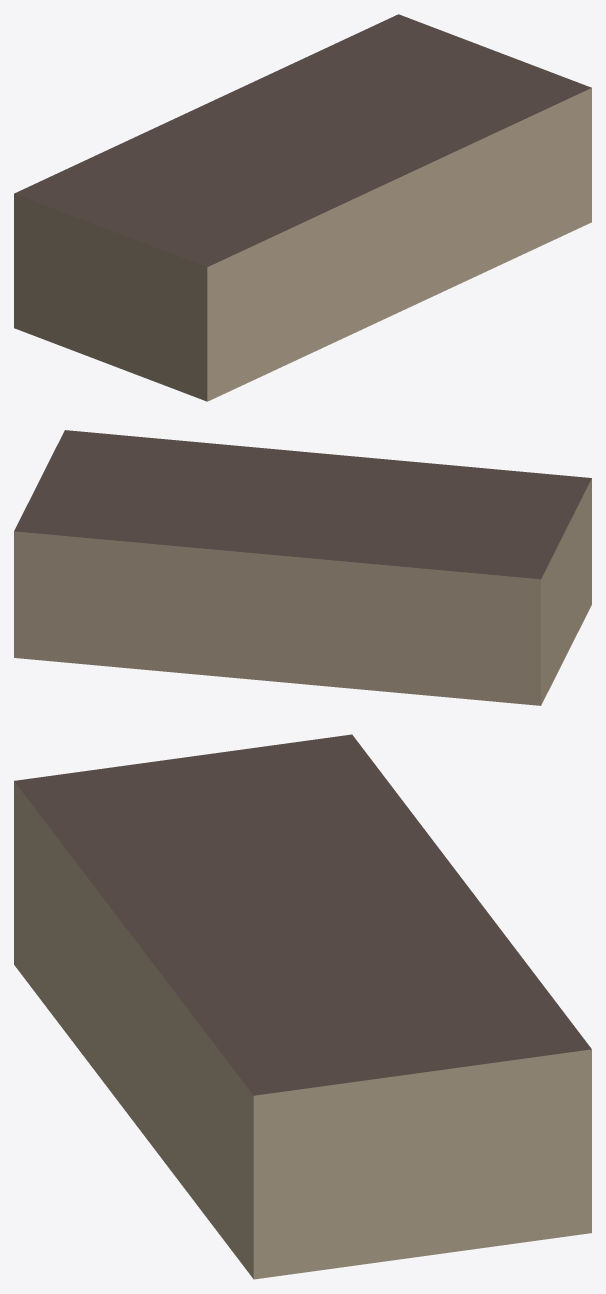
The picture shows the model from 3 angles, top to bottom: view 1: azimuth 30°, elevation 25°; view 2: azimuth 150°, elevation 25°; view 3: azimuth 270°, elevation 25°; orthographic projection. The views are drawn at different scales.
Visible parts, largest first — view 1: HP-w1544735758; view 2: HP-w1544735758; view 3: HP-w1544735758.
Part boxes in pixels (x1,y1,x2,y2): HP-w1544735758: (14, 14, 591, 401); HP-w1544735758: (14, 430, 591, 705); HP-w1544735758: (14, 734, 591, 1279).
Bounding box in the file's own units: 37.95 × 9 × 25.66.
